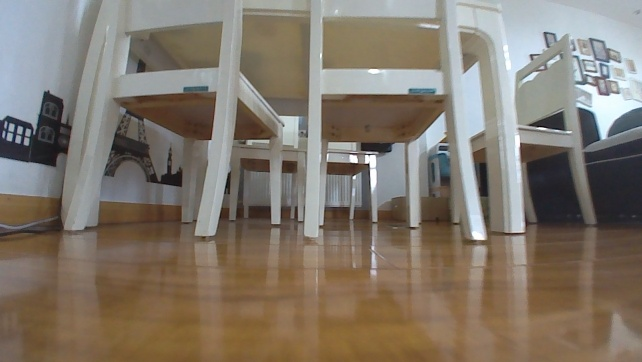dining_table: (50, 0, 605, 246)
sofa1: (524, 104, 641, 225)
wire: (0, 215, 62, 237)
